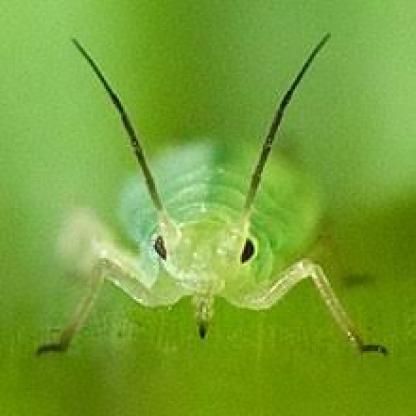aphid: (39, 22, 385, 366)
